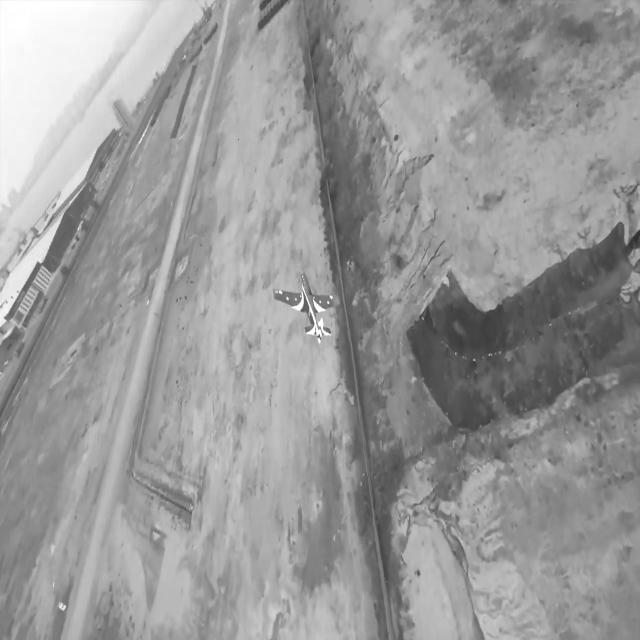iha: (304, 296, 309, 317)
